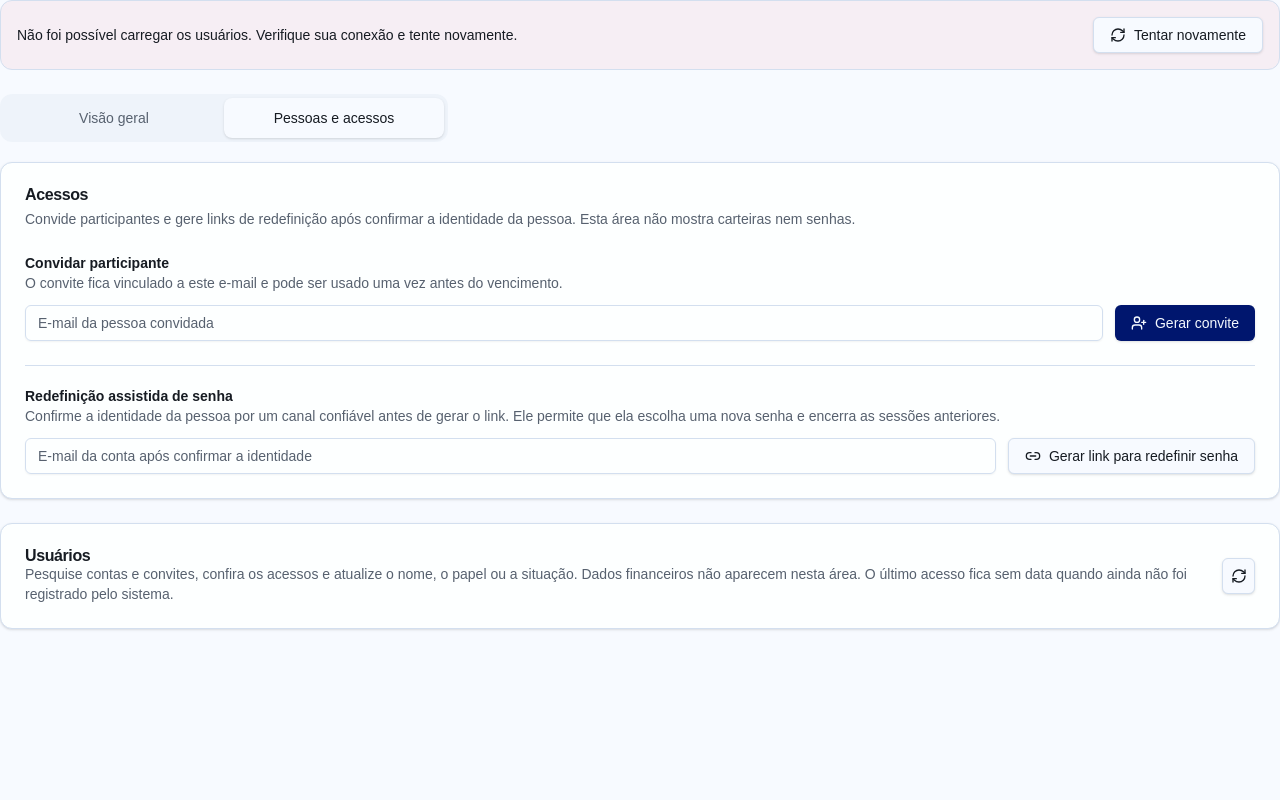
Scenario: AdminUsersClient remaining action states › shows an inline load error, suppresses empty states, and retries
Expected: the message shows "Não foi possível carregar os usuários", [17,27,517,43]
Expected: the text "Nenhum registro." is not shown
Click the button "Tentar novamente".
click(1178, 35)  # box [1093,17,1263,53]
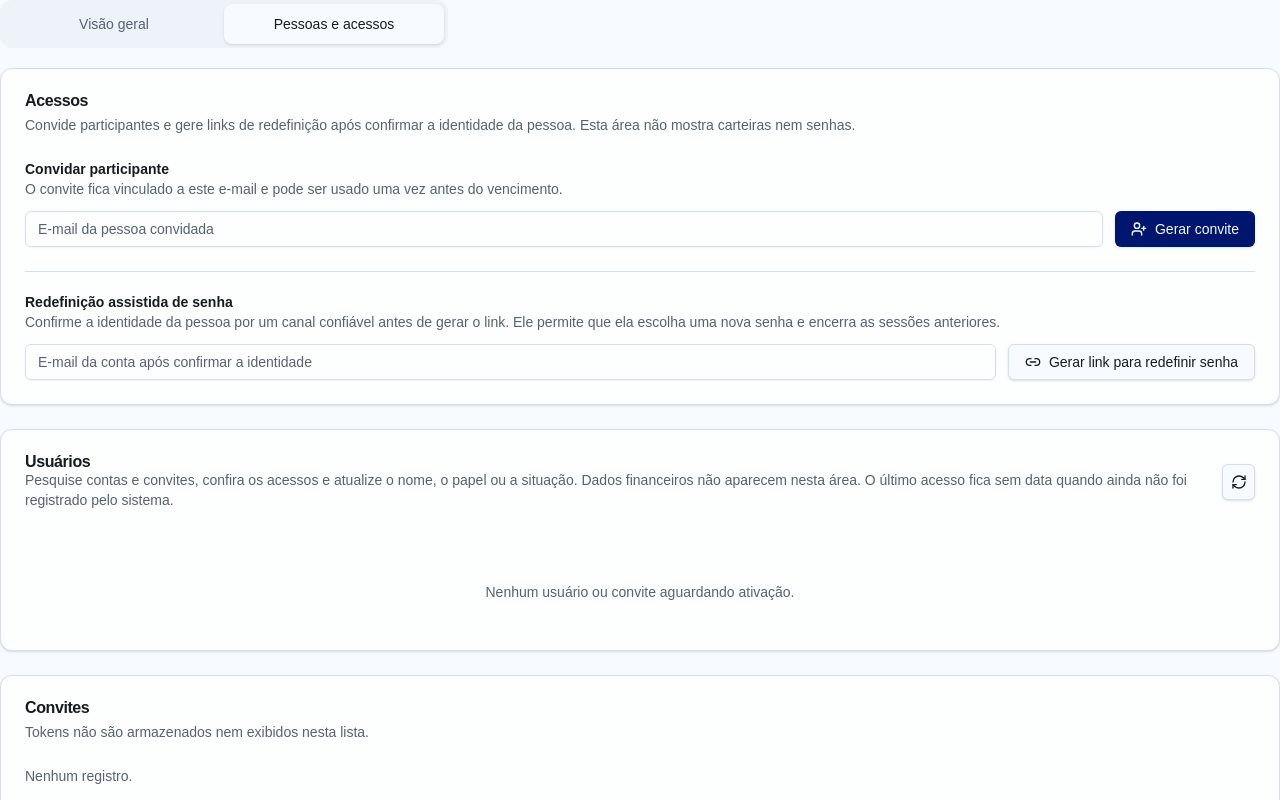
Expected: the message "Não foi possível carregar os usuários. Verifique sua conexão e tente novamente." is gone
Expected: the text "Nenhum registro." is shown 2 times
